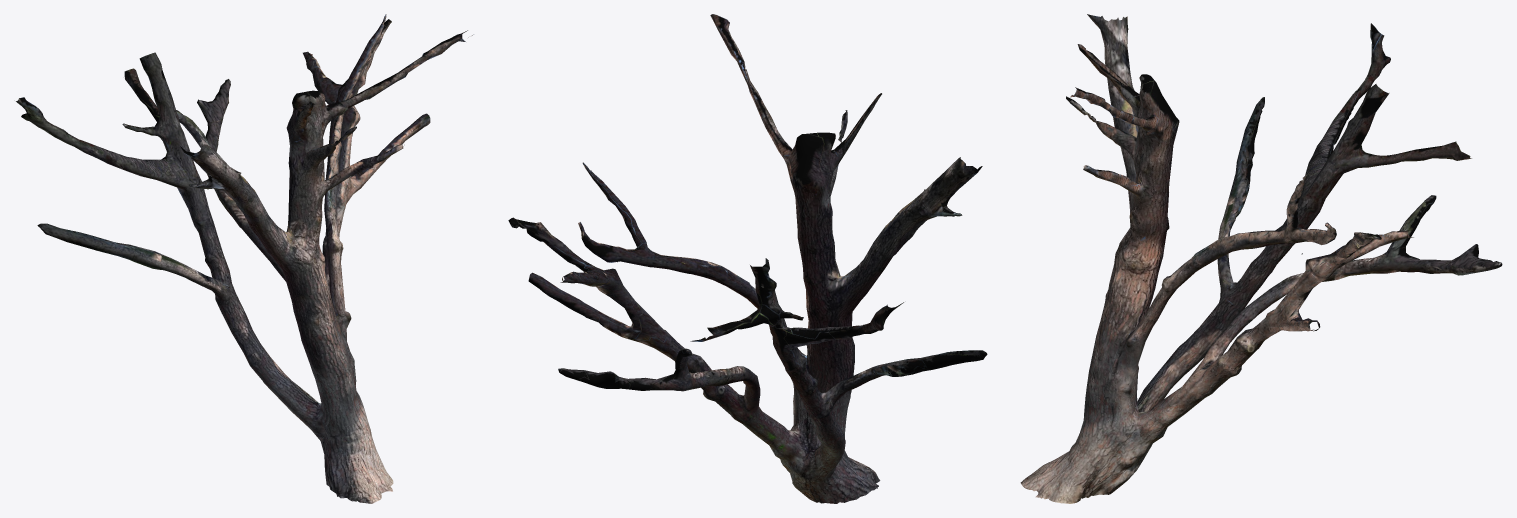
File: tree_snag_lean.glb
The picture shows the model from 3 angles, left to right: view 1: azimuth 30°, elevation 25°; view 2: azimuth 150°, elevation 25°; view 3: azimuth 270°, elevation 25°; orthographic projection. The views are drawn at different scales.
Parts seen in each view (by area): view 1: tree_snag_lean; view 2: tree_snag_lean; view 3: tree_snag_lean.
Boxes of the visible parts, bbox=[...] form: tree_snag_lean: bbox=[16, 14, 473, 503]; tree_snag_lean: bbox=[508, 14, 987, 503]; tree_snag_lean: bbox=[1020, 14, 1502, 503].
Size of the model in its own units: 18.47 by 18.18 by 17.25.
1 material, 1 textured.
